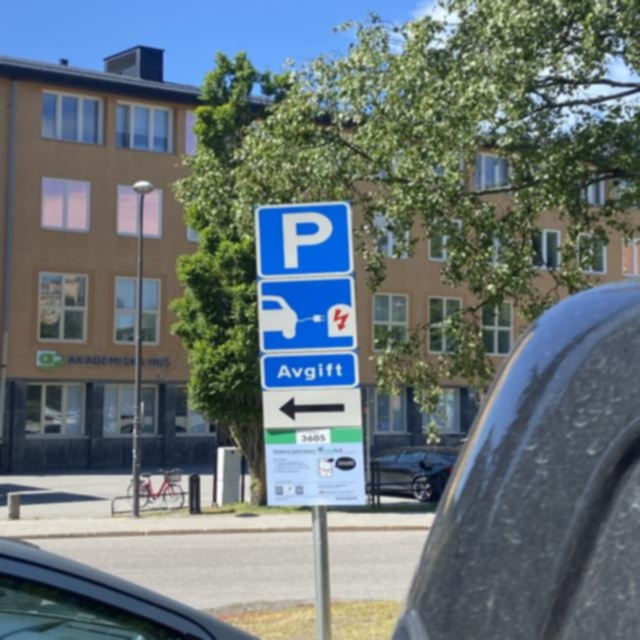P-skylt: (252, 199, 356, 279)
